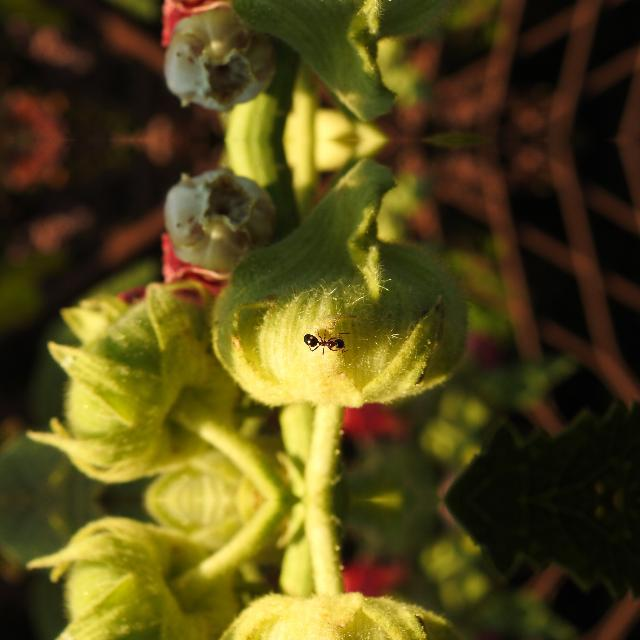Dolichoderus: (292, 326, 352, 356)
